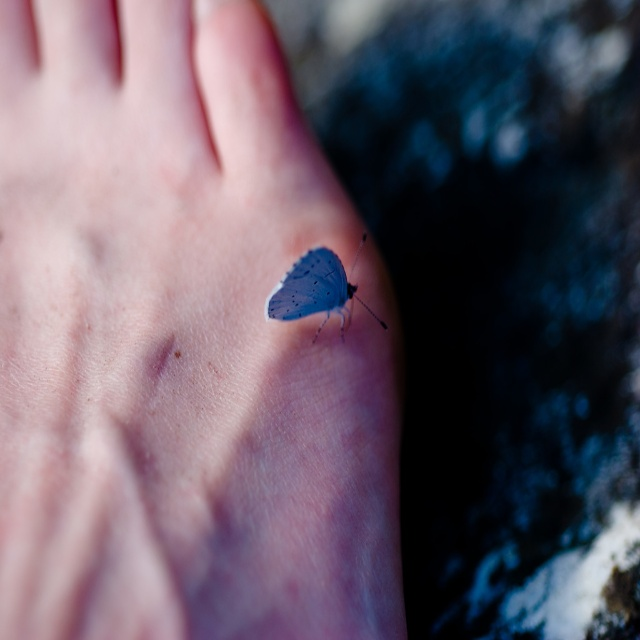Butterfly: (266, 235, 387, 346)
